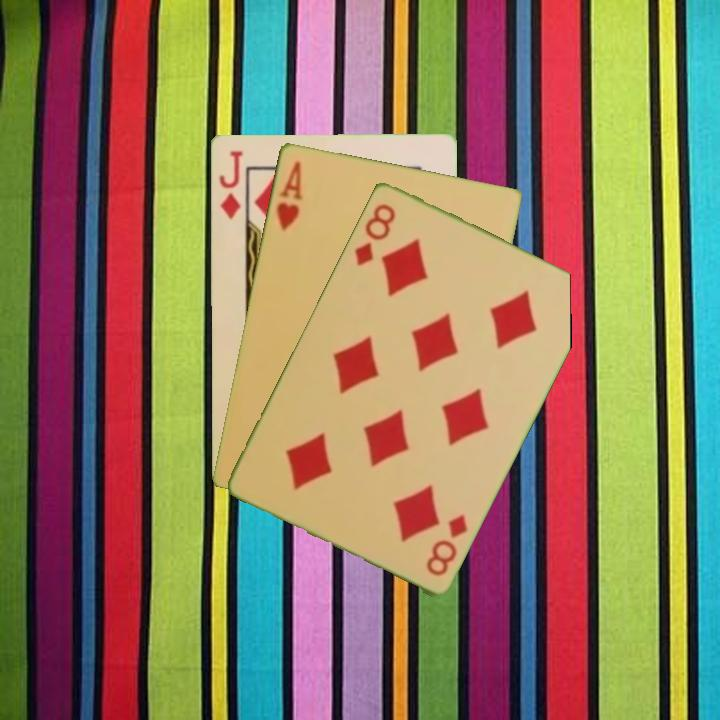8d: (350, 199, 399, 269), (422, 510, 470, 578)
Ah: (272, 157, 305, 234)
Jd: (215, 146, 245, 221)
